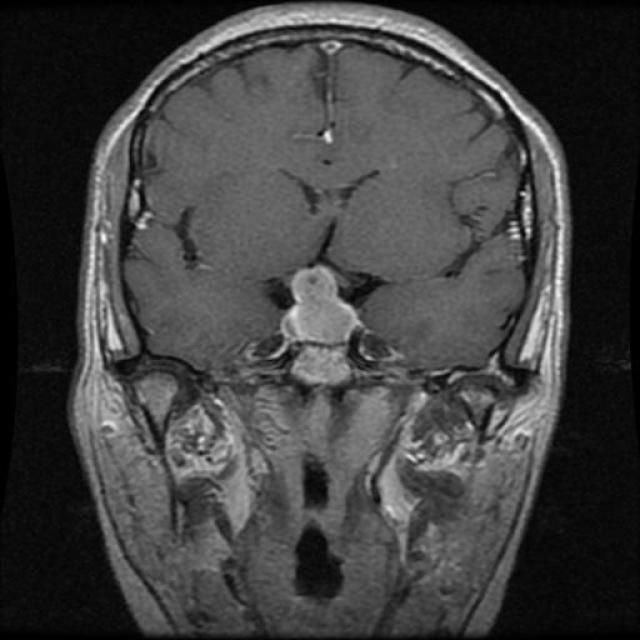pituitary: (281, 260, 354, 380)
